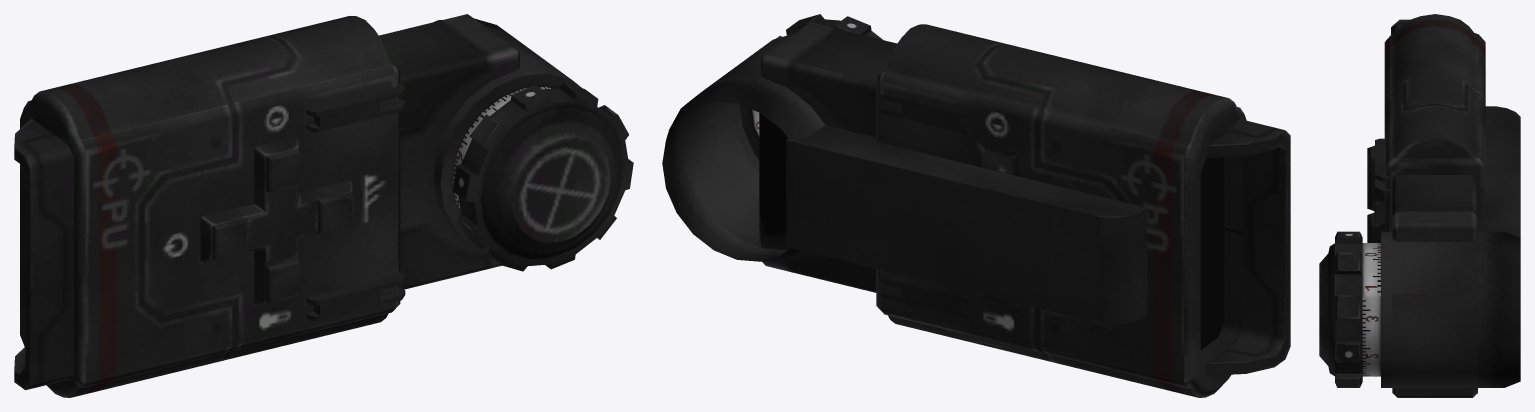
Rendered from t6_attach_bcpu_view_LOD0.obj.
3 views of the same model, side by side, from view 1: azimuth 30°, elevation 25°; view 2: azimuth 150°, elevation 25°; view 3: azimuth 270°, elevation 25° (orthographic). The views are drawn at different scales.
Parts seen in each view (by area): view 1: mtl_t6_attach_bcpu; view 2: mtl_t6_attach_bcpu, mtl_t6_attach_bcpu_ui3d; view 3: mtl_t6_attach_bcpu.
Boxes of the visible parts, x1,y1,x2,y2 form: mtl_t6_attach_bcpu: (14, 14, 633, 397); mtl_t6_attach_bcpu: (662, 14, 1290, 397); mtl_t6_attach_bcpu_ui3d: (1200, 157, 1224, 349); mtl_t6_attach_bcpu: (1319, 14, 1520, 397).
Bounding box in the file's own units: 10.1 × 5.04 × 3.78.
